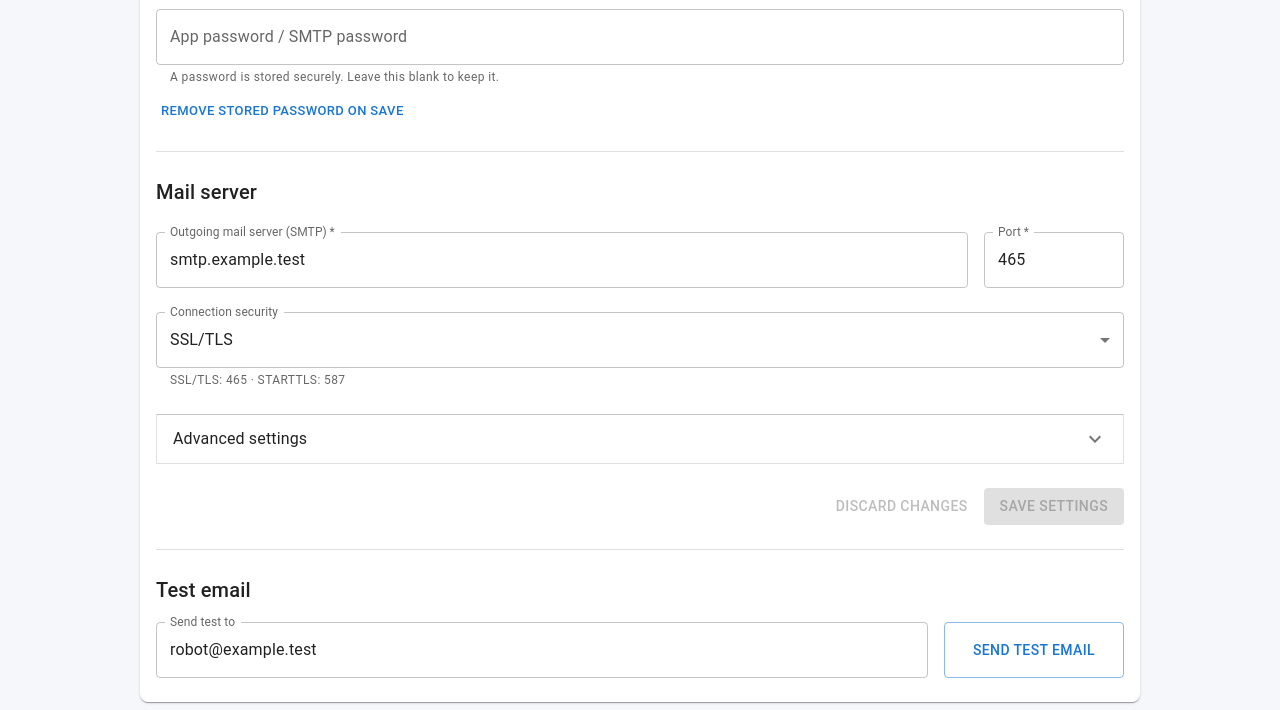
Test: SMTP setup interaction › shows a persistent detailed SMTP failure inline
The width and height of the screenshot is (1280, 710).
(page scrolled)
What coordinates should you click on to do the following:
click the button "Send test email"
I would click on:
 (1034, 650)
Its box is [944, 622, 1124, 678].
(page scrolled)
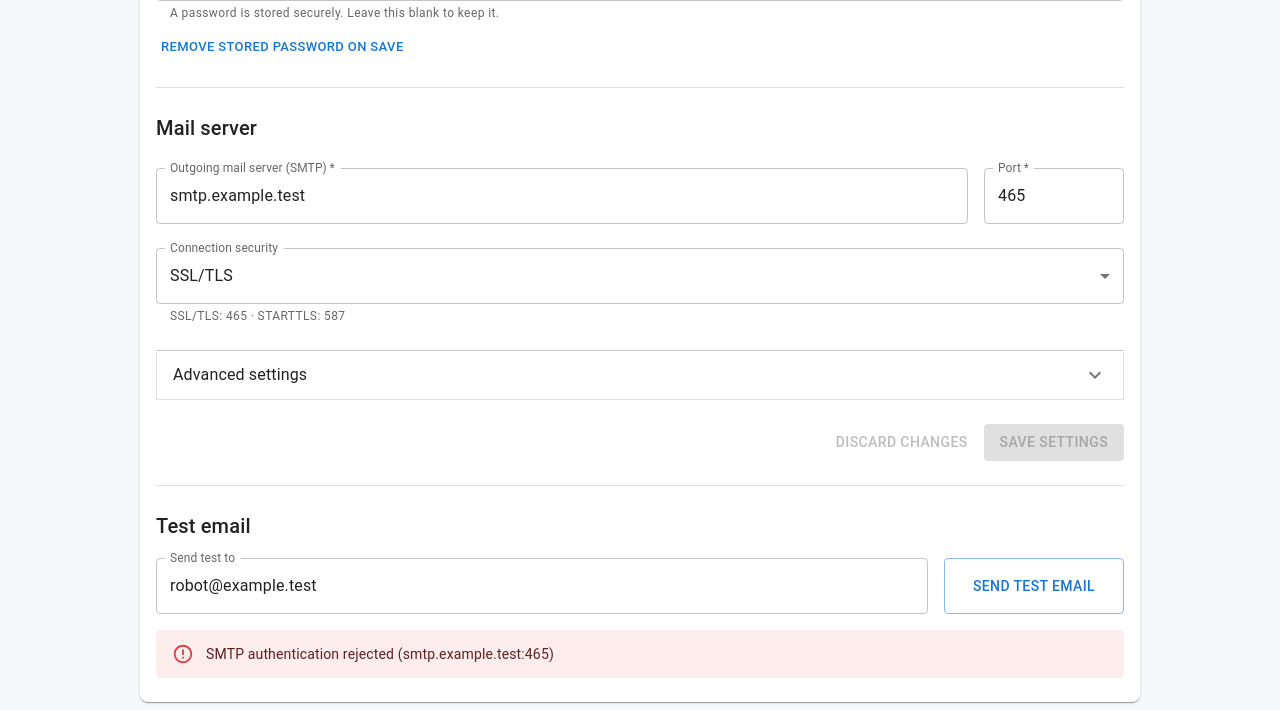
Now the text "SMTP authentication rejected (smtp.example.test:465)" is shown, box [206, 646, 554, 662]
